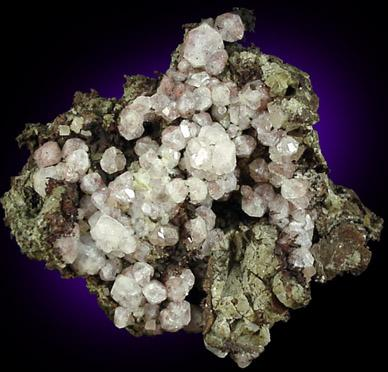calcite: (33, 13, 316, 332)
